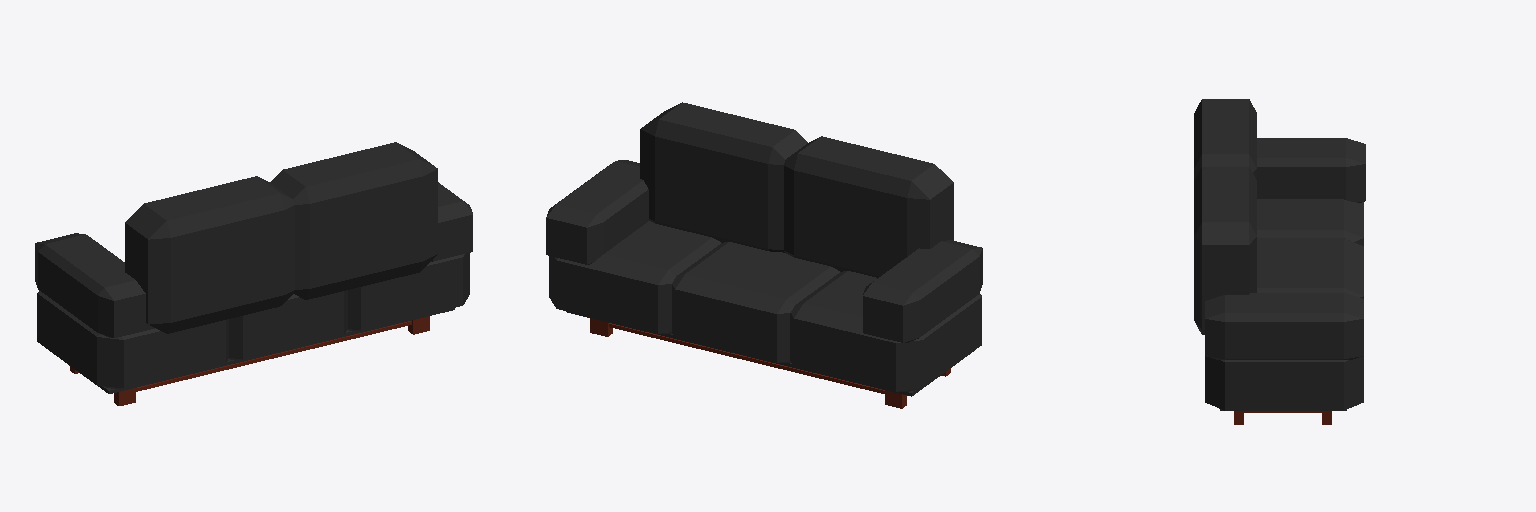
File: Couch3.obj
3 renders of one model, left to right at view 1: azimuth 30°, elevation 25°; view 2: azimuth 150°, elevation 25°; view 3: azimuth 270°, elevation 25°, orthographic.
Visible parts, largest first — view 1: mergedBlocks; view 2: mergedBlocks; view 3: mergedBlocks.
Part boxes in pixels (x1,y1,x2,y2): mergedBlocks: (35,142,472,405); mergedBlocks: (546,102,982,408); mergedBlocks: (1194,99,1365,424).
Size of the model in its own units: 2.2 by 1.07 by 0.875.